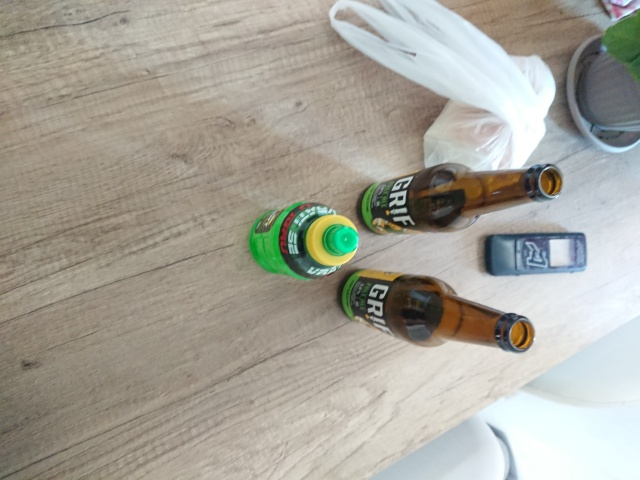Vindi Iso Sport Lemon-Grapefruit 500mL: (245, 198, 363, 285)
